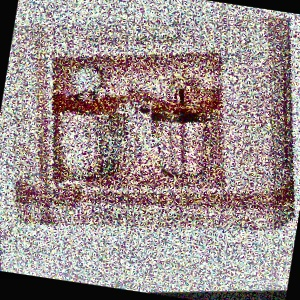women_secret: (162, 10, 231, 50)
